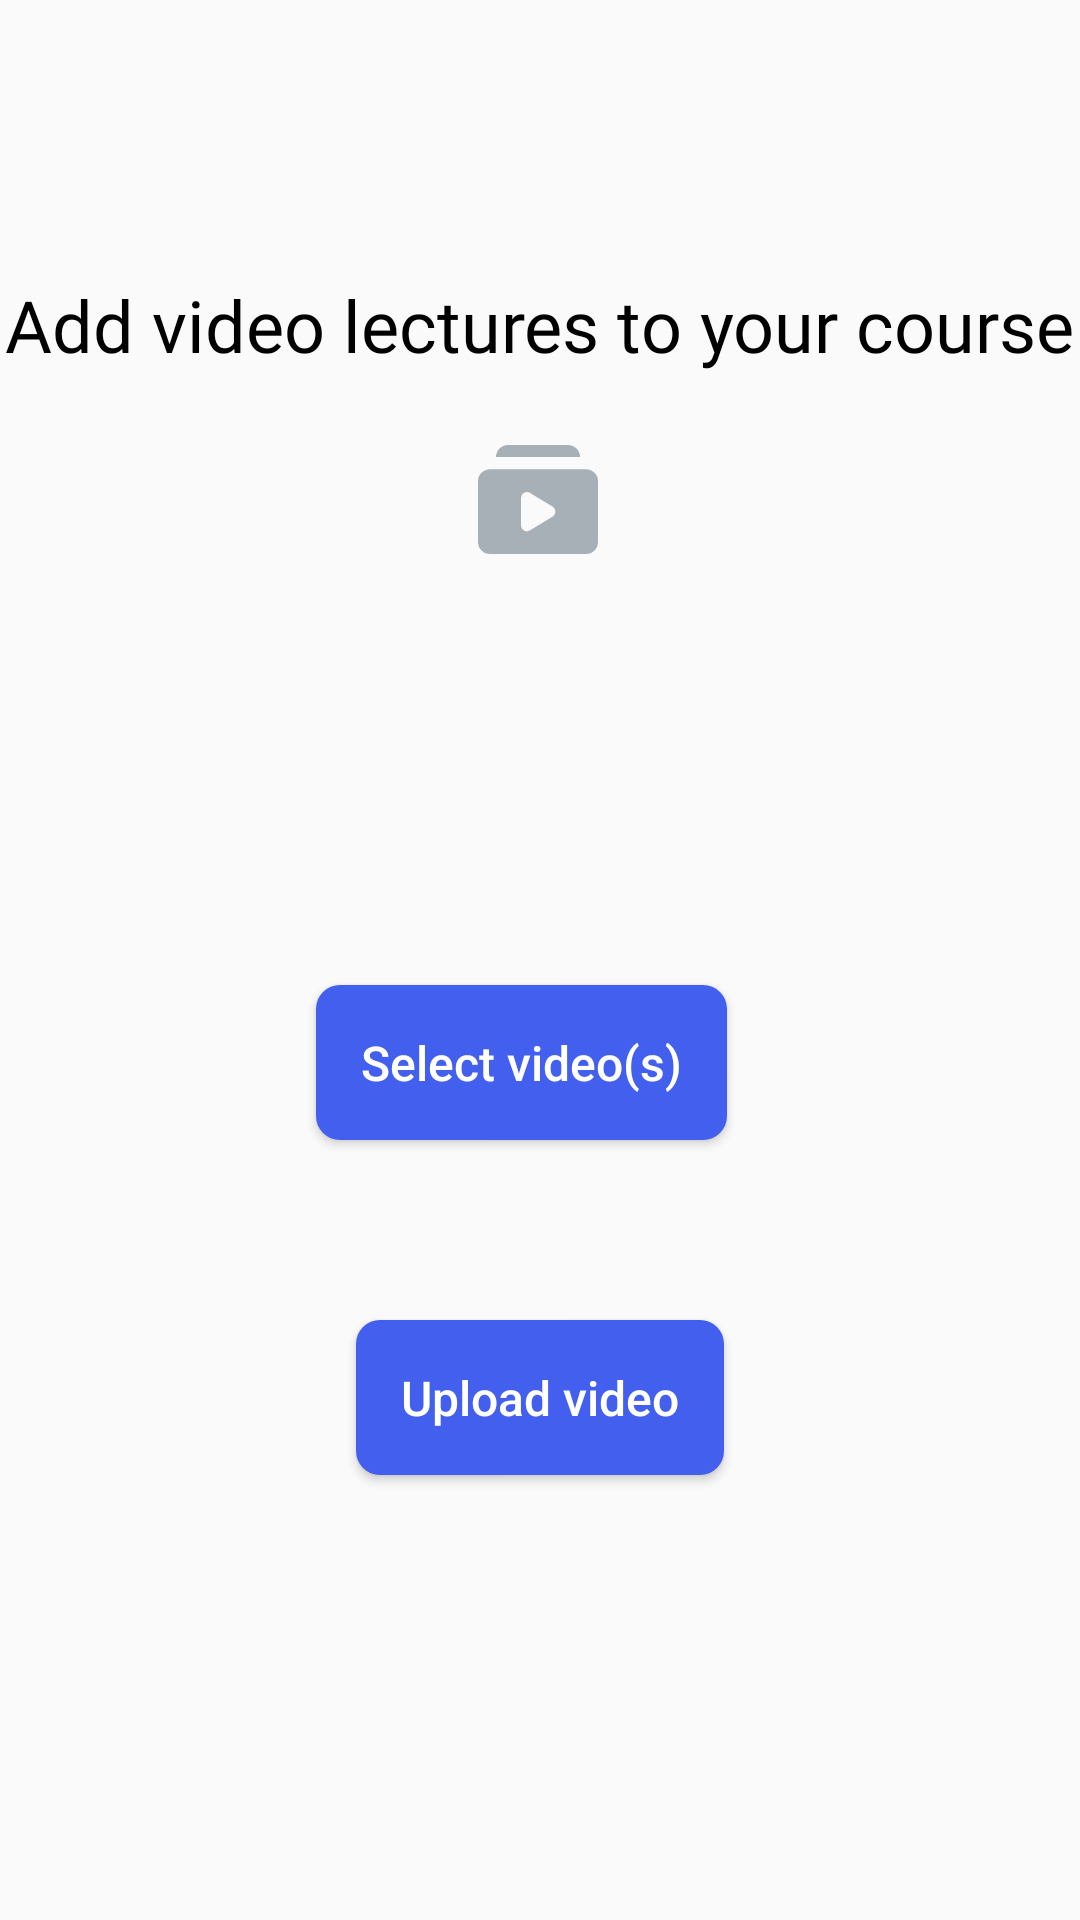

Icons on this 1080w x 1920h Android screen, each with the point to tap as point (x, y):
videoicon: point (538, 499)
